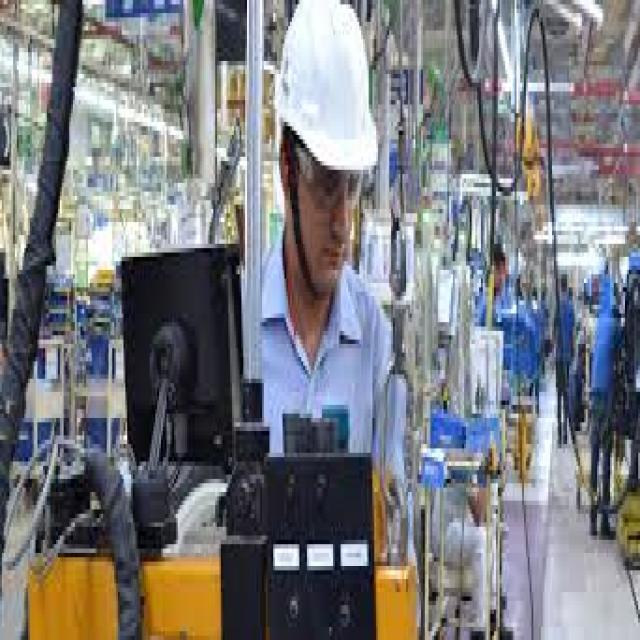Safety-Helmet: (269, 0, 382, 183)
